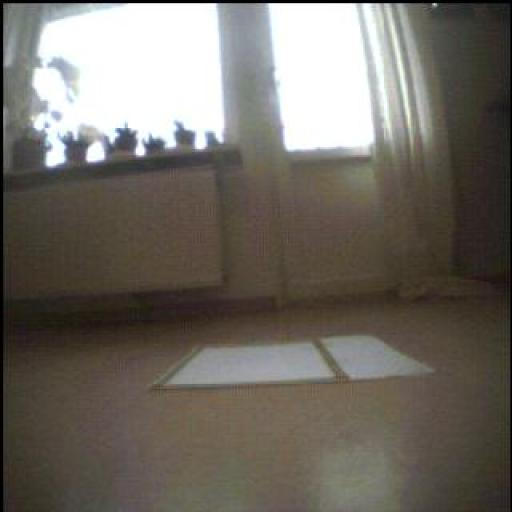Pad: (146, 329, 445, 389)
